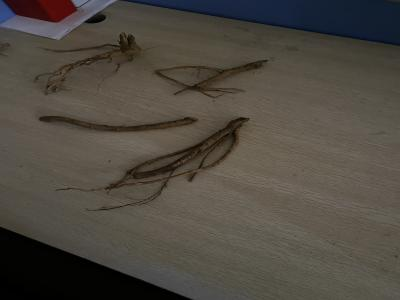Root: (127, 117, 249, 178), (35, 33, 142, 94), (155, 60, 267, 96), (39, 116, 197, 132)
